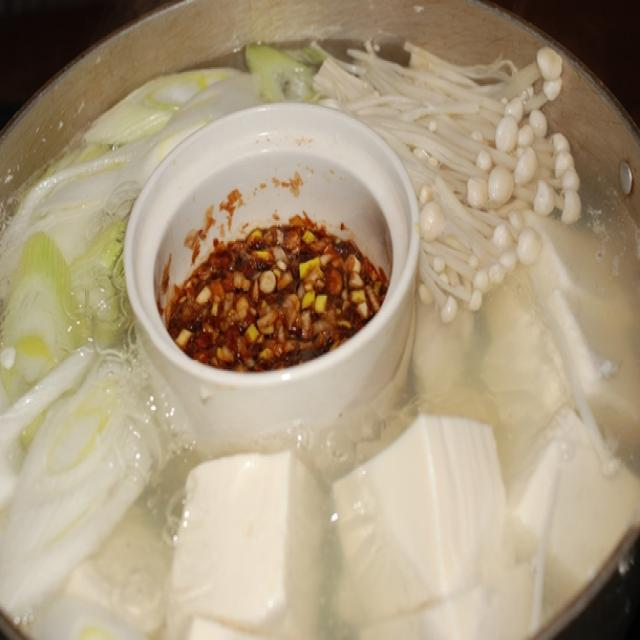豆腐料理: (27, 31, 636, 629)
